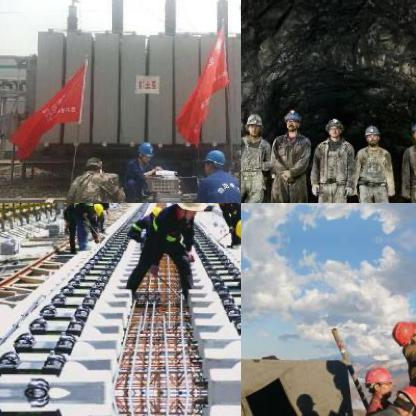Helmet: (362, 365, 392, 397), (389, 383, 415, 415), (391, 319, 415, 349), (200, 146, 225, 172), (242, 110, 263, 136), (134, 137, 156, 161), (324, 117, 344, 139), (360, 121, 379, 144), (282, 107, 300, 130), (85, 203, 107, 217), (149, 203, 165, 219), (232, 214, 240, 243), (176, 203, 205, 210), (409, 117, 415, 145), (208, 203, 229, 209)
